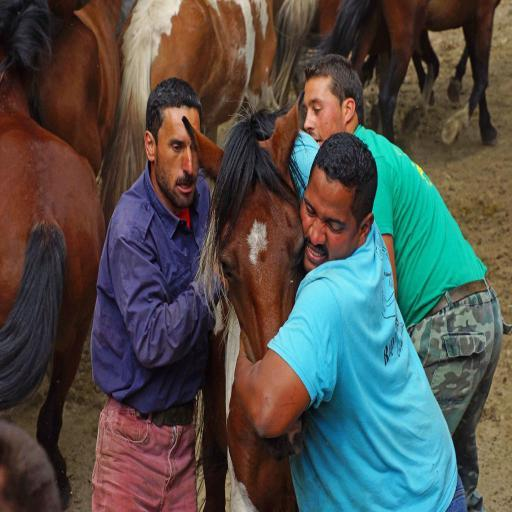Horse: (0, 0, 503, 511)
